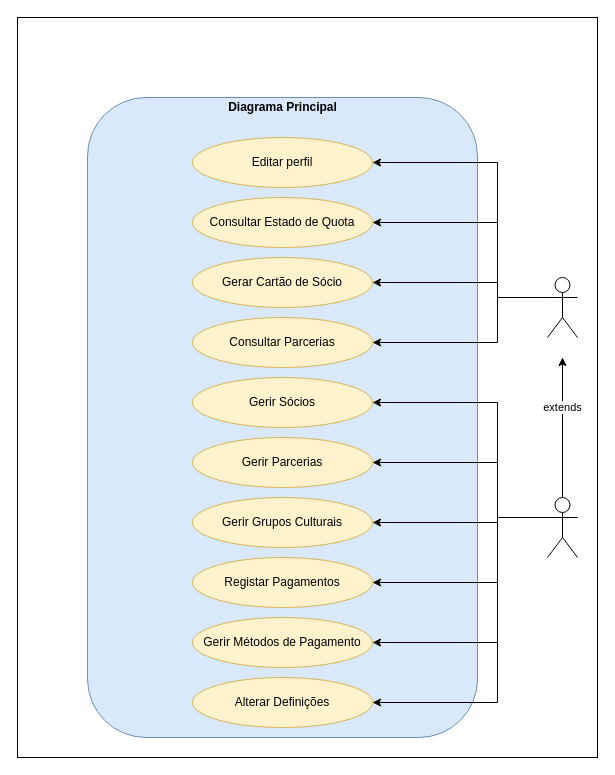
This 615x775 diagram has some shape labels left out. The centre of each missing label's shape, as x and y in pixels:
Admin: the point at 562,527
Sócio: the point at 562,307
